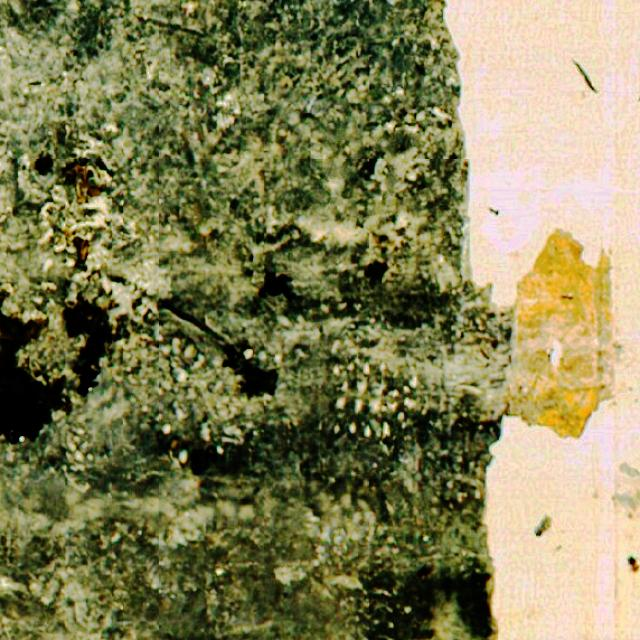Corrosion: (509, 236, 617, 435)
